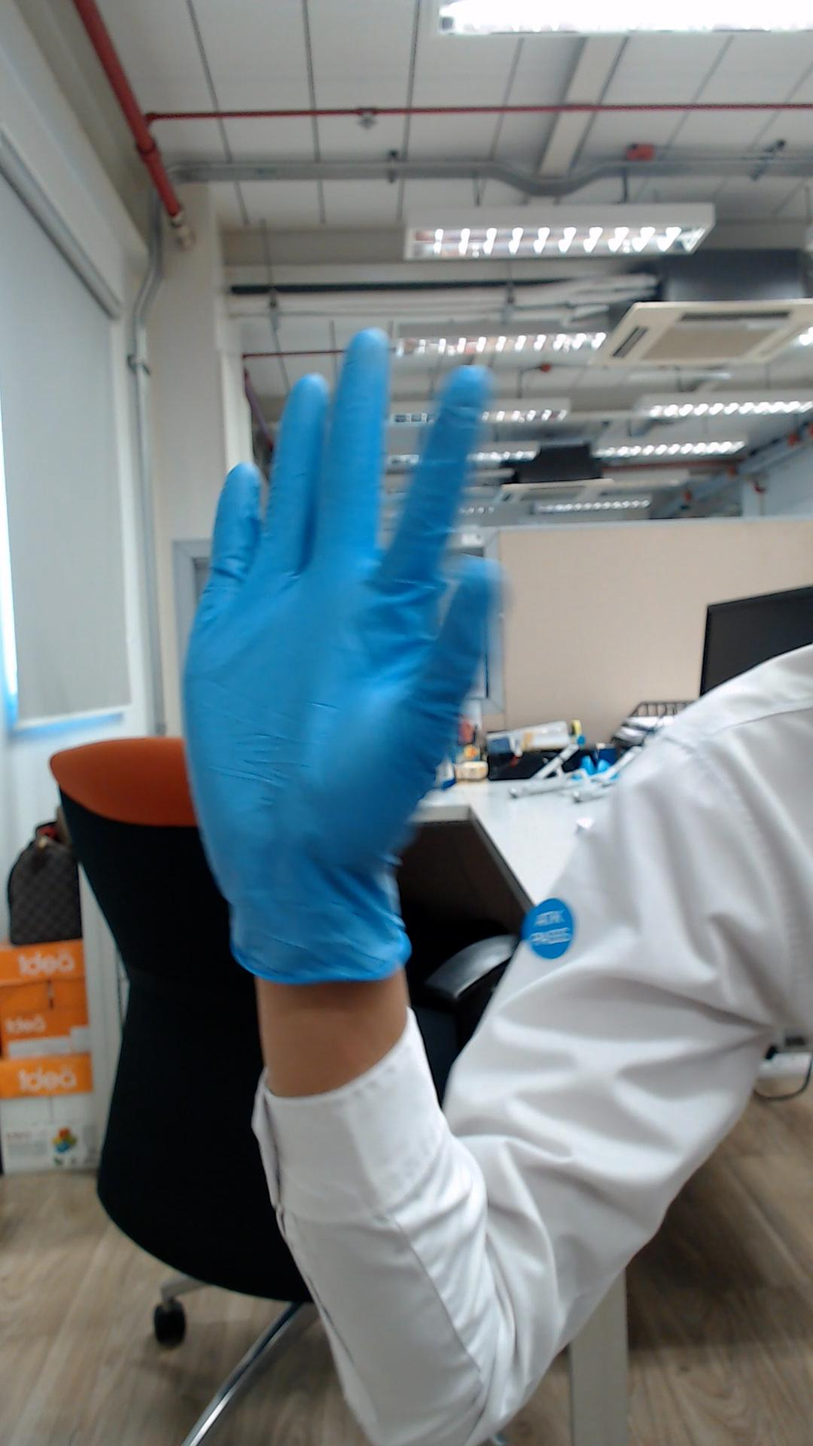gloves: (172, 292, 518, 888)
